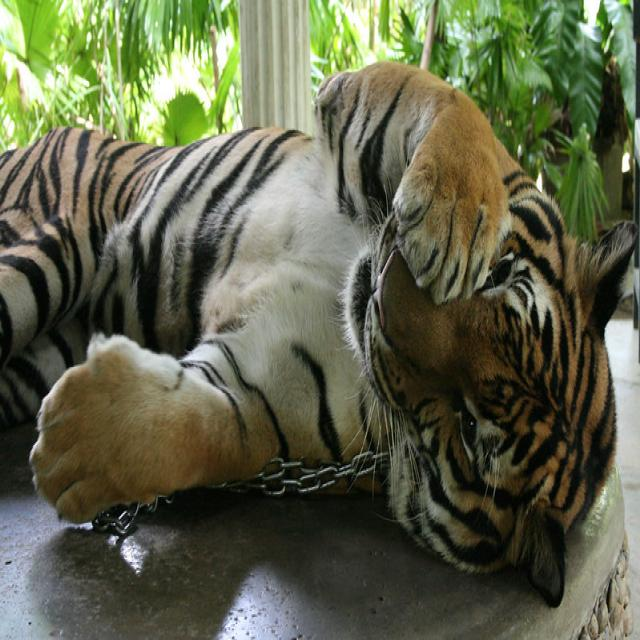Tiger: (0, 56, 636, 608)
